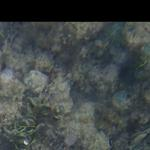dead: (1, 23, 148, 148)
